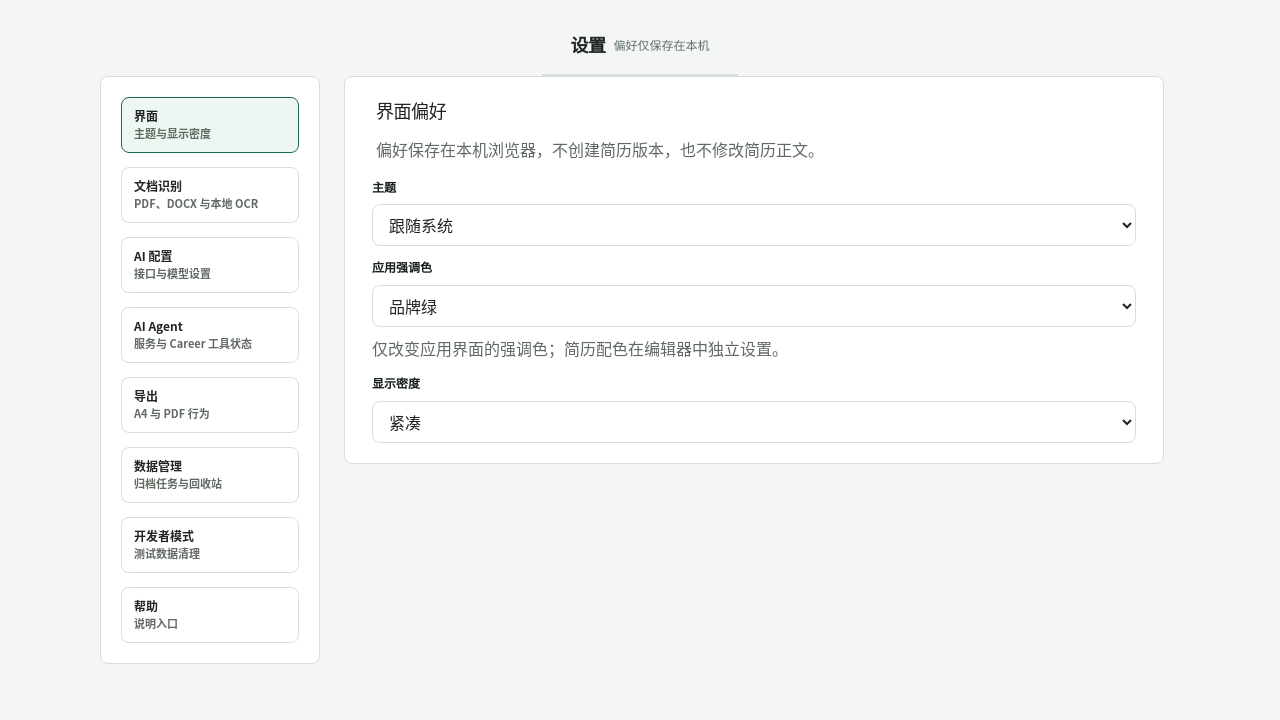
Test: P4.6d AI runtime control plane › moves engineering telemetry into Developer Mode diagnostics
Step 1. Click the button named "AI Agent服务" → (210, 335), box x1=121 y1=307 x2=299 y2=363
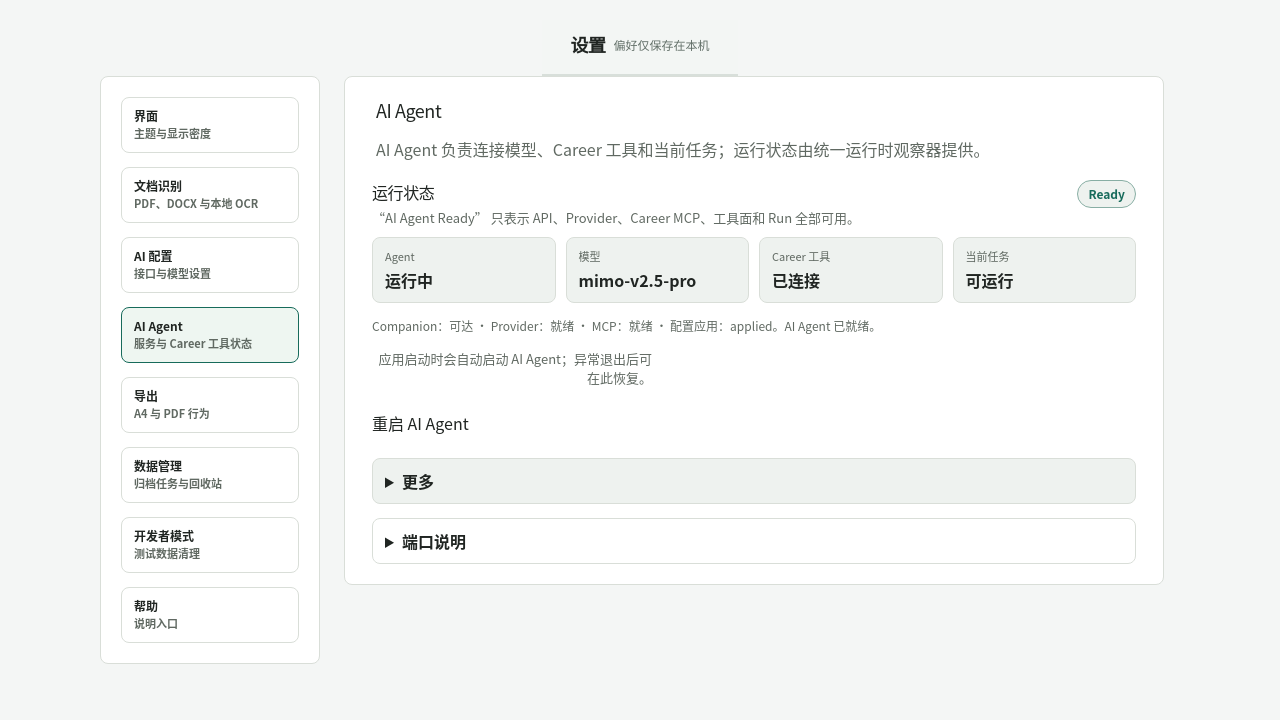
Expected: the text "Fingerprint" is not shown
Step 2. Click the button "开发者模式 测试数据清理" → (210, 545), box x1=121 y1=517 x2=299 y2=573
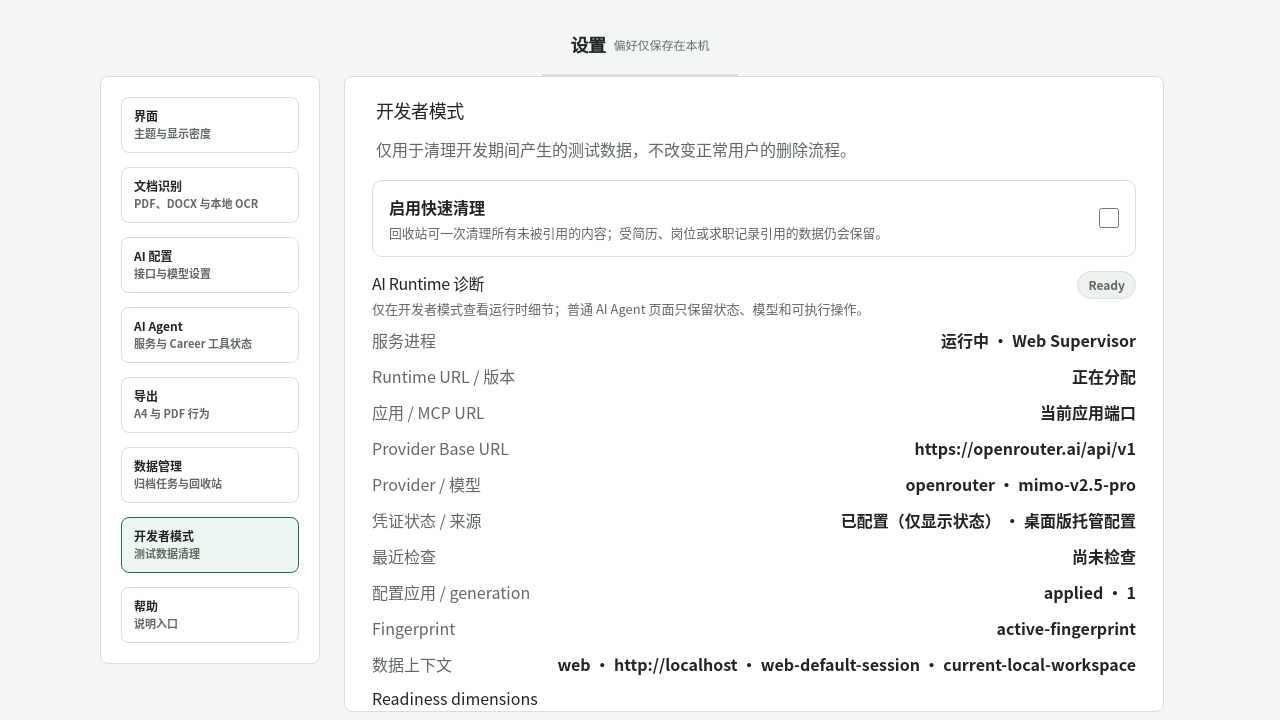
Now the heading "AI Runtime 诊断" is shown, box x1=372 y1=271 x2=484 y2=295
Now the heading "Readiness dimensions" is shown, box x1=372 y1=686 x2=538 y2=710
Now the text "Fingerprint" is shown, box x1=372 y1=616 x2=455 y2=640
